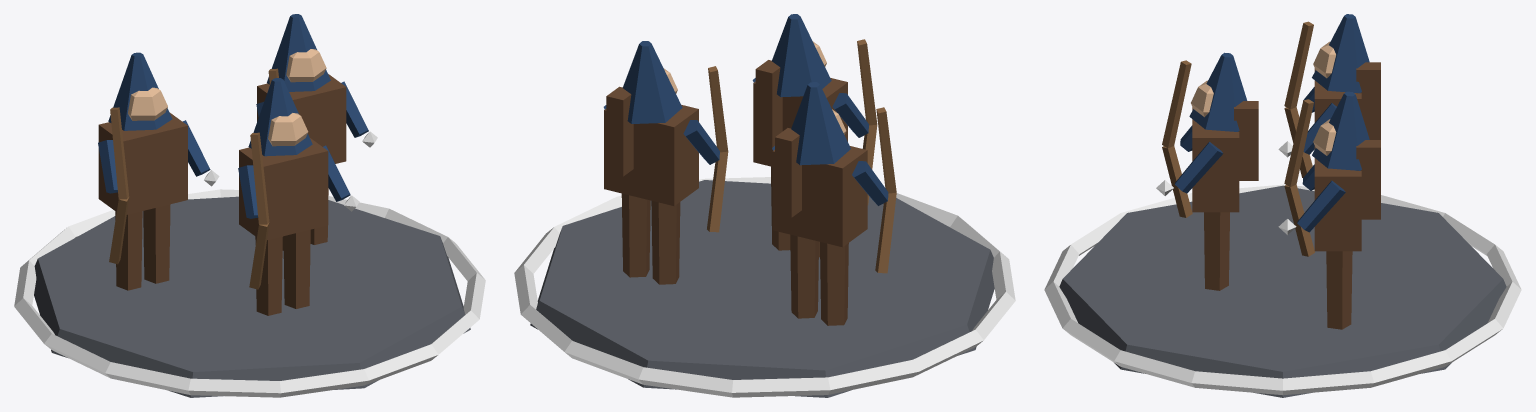
Rendered from frigate.fbx.
3 views of the same model, side by side, from view 1: azimuth 30°, elevation 25°; view 2: azimuth 150°, elevation 25°; view 3: azimuth 270°, elevation 25° (orthographic). The views are drawn at different scales.
Visible parts, largest first — view 1: frigate; view 2: frigate; view 3: frigate.
Part boxes in pixels (x1=…): frigate: x1=14, y1=14, x2=485, y2=397; frigate: x1=514, y1=14, x2=1015, y2=397; frigate: x1=1044, y1=14, x2=1521, y2=397.
Size of the model in its own units: 1.56 by 0.888 by 1.56.
2 materials, 1 textured.
